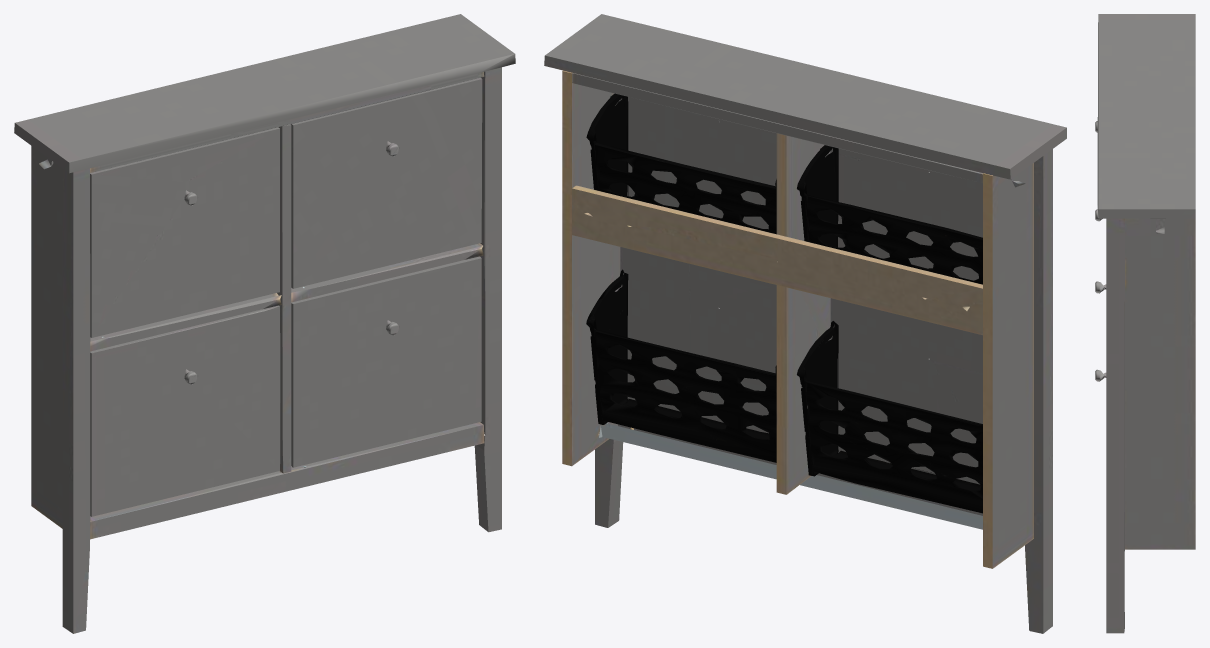
File: 06 - GULLABERG Shoe cabinet with 4 compartments - grey 105x22x107 cm.glb
3 renders of one model, left to right at view 1: azimuth 30°, elevation 25°; view 2: azimuth 150°, elevation 25°; view 3: azimuth 270°, elevation 25°, orthographic. The views are drawn at different scales.
Visible parts, largest first — view 1: ASY_ART_10587707_S01_NV01, ASY_LPT04_10587707_S01_NV01, ASY_LPT01_10587707_S01_NV01, ASY_LPT02_10587707_S01_NV01, ASY_LPT03_10587707_S01_NV01; view 2: ASY_ART_10587707_S01_NV01, ASY_LPT04_10587707_S01_NV01, ASY_LPT01_10587707_S01_NV01, ASY_LPT02_10587707_S01_NV01, ASY_LPT03_10587707_S01_NV01; view 3: ASY_ART_10587707_S01_NV01.
Part boxes in pixels (x1=…): ASY_ART_10587707_S01_NV01: x1=14, y1=14, x2=515, y2=633; ASY_LPT04_10587707_S01_NV01: x1=291, y1=256, x2=481, y2=467; ASY_LPT01_10587707_S01_NV01: x1=90, y1=305, x2=280, y2=516; ASY_LPT02_10587707_S01_NV01: x1=291, y1=77, x2=482, y2=288; ASY_LPT03_10587707_S01_NV01: x1=90, y1=127, x2=279, y2=337; ASY_ART_10587707_S01_NV01: x1=544, y1=14, x2=1066, y2=633; ASY_LPT04_10587707_S01_NV01: x1=586, y1=247, x2=776, y2=462; ASY_LPT01_10587707_S01_NV01: x1=797, y1=298, x2=982, y2=513; ASY_LPT02_10587707_S01_NV01: x1=586, y1=93, x2=776, y2=234; ASY_LPT03_10587707_S01_NV01: x1=797, y1=145, x2=982, y2=284; ASY_ART_10587707_S01_NV01: x1=1097, y1=14, x2=1195, y2=633.
Size of the model in its own units: 1.05 by 1.07 by 0.2272.
Materials: 5 (5 with a texture image).
